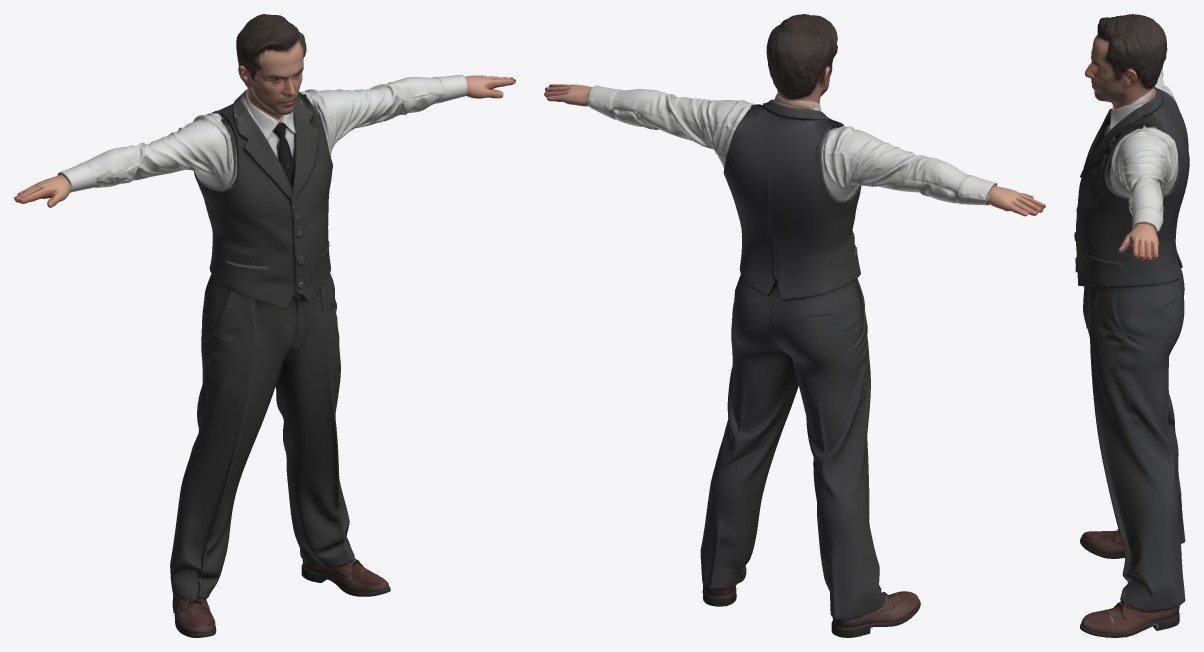
File: T_Pose_Formality_0125134829_texture.fbx
3 renders of one model, left to right at view 1: azimuth 30°, elevation 25°; view 2: azimuth 150°, elevation 25°; view 3: azimuth 270°, elevation 25°, orthographic.
Visible parts, largest first — view 1: Mesh_0.001; view 2: Mesh_0.001; view 3: Mesh_0.001.
Part boxes in pixels (x1,y1,x2,y2): Mesh_0.001: (14,14,515,637); Mesh_0.001: (544,14,1045,637); Mesh_0.001: (1074,14,1189,637).
Bounding box in the file's own units: 156 × 175 × 31.81.
Materials: 1 (1 with a texture image).
